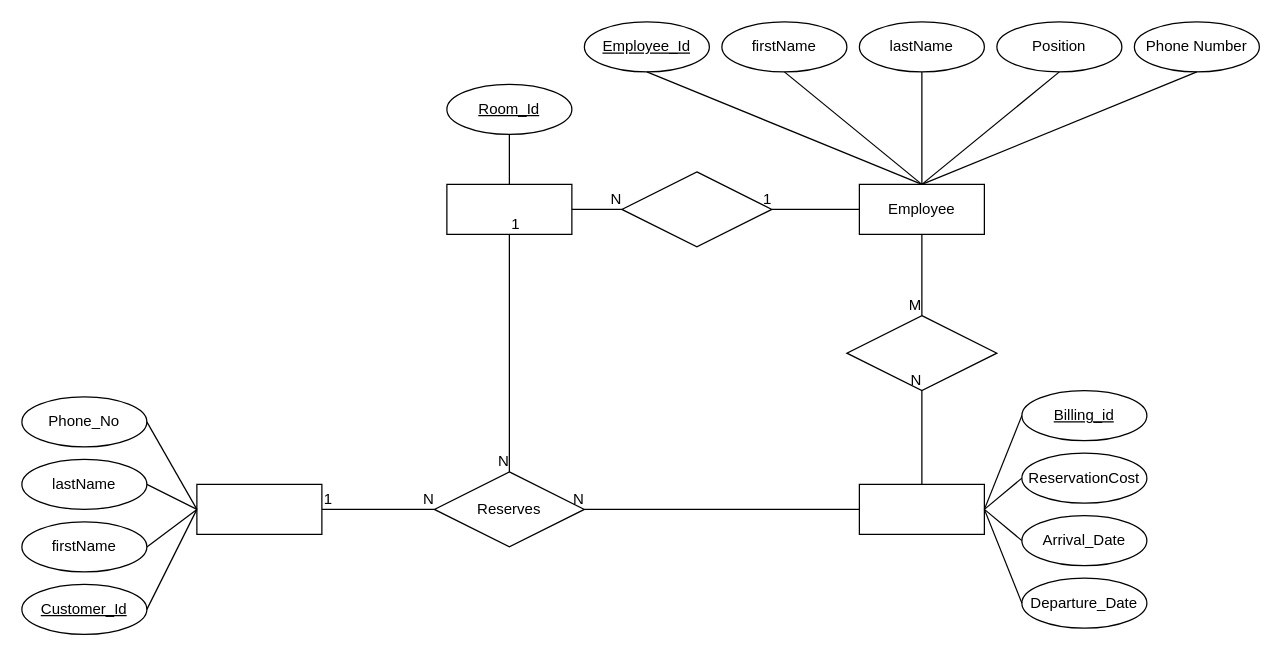
This 1281x656 diagram has some shape labels left out. Each missing label, with the centre of its shape:
"Cleans" goes at point 696,209.
"Customer" goes at point 259,508.
"Invoice" goes at point 921,508.
"Rooms" goes at point 509,208.
"Verifies" goes at point 921,352.
